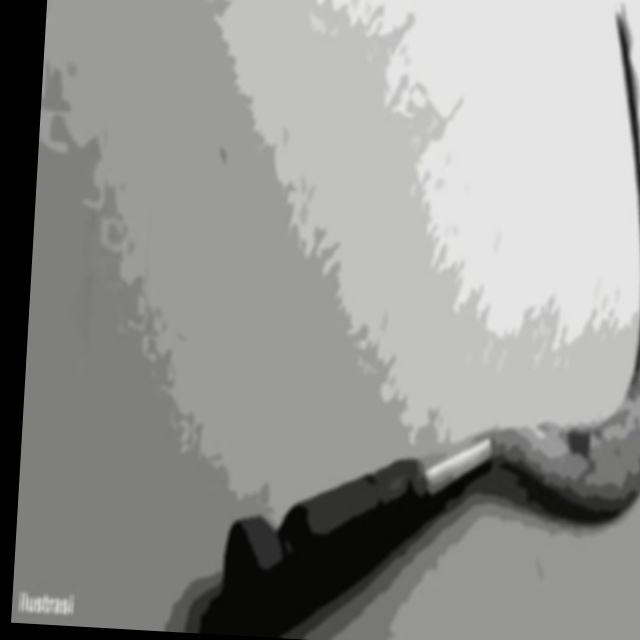Sharp-Object: (216, 0, 640, 640)
